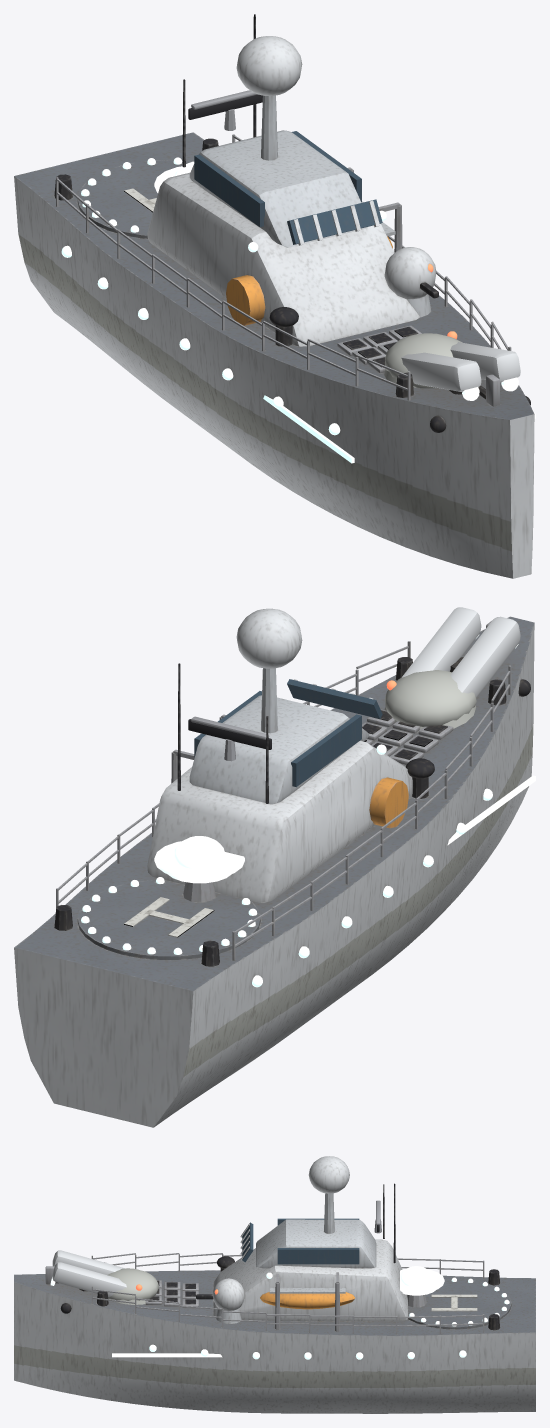
Rendered from corvette.glb.
The picture shows the model from 3 angles, top to bottom: view 1: azimuth 30°, elevation 25°; view 2: azimuth 150°, elevation 25°; view 3: azimuth 270°, elevation 25°; orthographic projection. The views are drawn at different scales.
Parts seen in each view (by area): view 1: Hull, Barrel, Turret, Spin; view 2: Hull, Barrel, Turret, Spin; view 3: Hull, Barrel, Turret.
Boxes of the visible parts, <box> form: Hull: <box>14,14,535,578</box>; Barrel: <box>401,342,520,400</box>; Turret: <box>384,331,462,388</box>; Spin: <box>188,90,262,130</box>; Hull: <box>14,608,535,1127</box>; Barrel: <box>401,607,520,697</box>; Turret: <box>384,670,476,732</box>; Spin: <box>188,716,271,761</box>; Hull: <box>14,1156,535,1413</box>; Barrel: <box>50,1250,126,1297</box>; Turret: <box>107,1268,159,1304</box>.
Size of the model in its own units: 2.82 by 4.84 by 9.6.
18 materials, 12 textured.
